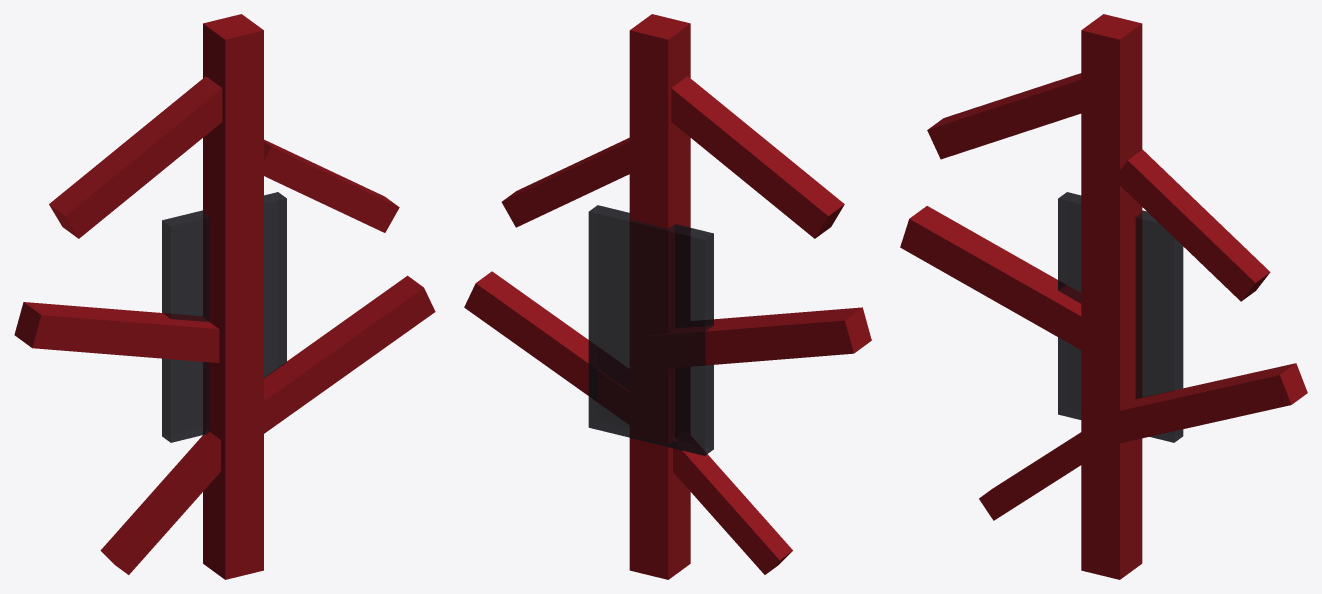
Rendered from ANM_P2_Crack_Core_A.obj.
3 views of the same model, side by side, from view 1: azimuth 30°, elevation 25°; view 2: azimuth 150°, elevation 25°; view 3: azimuth 330°, elevation 25° (orthographic).
Visible parts, largest first — view 1: core_spine, mouth_void, branch_upper_l, branch_mid_r, branch_mid_l, branch_low, branch_upper_r; view 2: core_spine, mouth_void, branch_mid_l, branch_upper_l, branch_mid_r, branch_low, branch_upper_r; view 3: core_spine, mouth_void, branch_mid_l, branch_upper_r, branch_mid_r, branch_upper_l, branch_low.
Boxes of the visible parts, x1=… form: core_spine: x1=203, y1=14, x2=263, y2=579; mouth_void: x1=162, y1=192, x2=286, y2=442; branch_upper_l: x1=49, y1=76, x2=222, y2=238; branch_mid_r: x1=247, y1=275, x2=435, y2=434; branch_mid_l: x1=14, y1=302, x2=219, y2=362; branch_low: x1=100, y1=430, x2=220, y2=574; branch_upper_r: x1=264, y1=139, x2=399, y2=232; core_spine: x1=629, y1=14, x2=690, y2=579; mouth_void: x1=588, y1=205, x2=713, y2=455; branch_mid_l: x1=648, y1=307, x2=871, y2=368; branch_upper_l: x1=671, y1=76, x2=844, y2=238; branch_mid_r: x1=464, y1=271, x2=629, y2=424; branch_low: x1=673, y1=438, x2=792, y2=574; branch_upper_r: x1=501, y1=137, x2=629, y2=227; core_spine: x1=1081, y1=14, x2=1142, y2=579; mouth_void: x1=1058, y1=192, x2=1183, y2=442; branch_mid_l: x1=900, y1=206, x2=1081, y2=349; branch_upper_r: x1=1113, y1=149, x2=1270, y2=301; branch_mid_r: x1=1105, y1=363, x2=1307, y2=443; branch_upper_l: x1=927, y1=73, x2=1081, y2=159; branch_low: x1=979, y1=432, x2=1081, y2=520.
Size of the model in its own units: 3.08 by 4 by 0.33.
